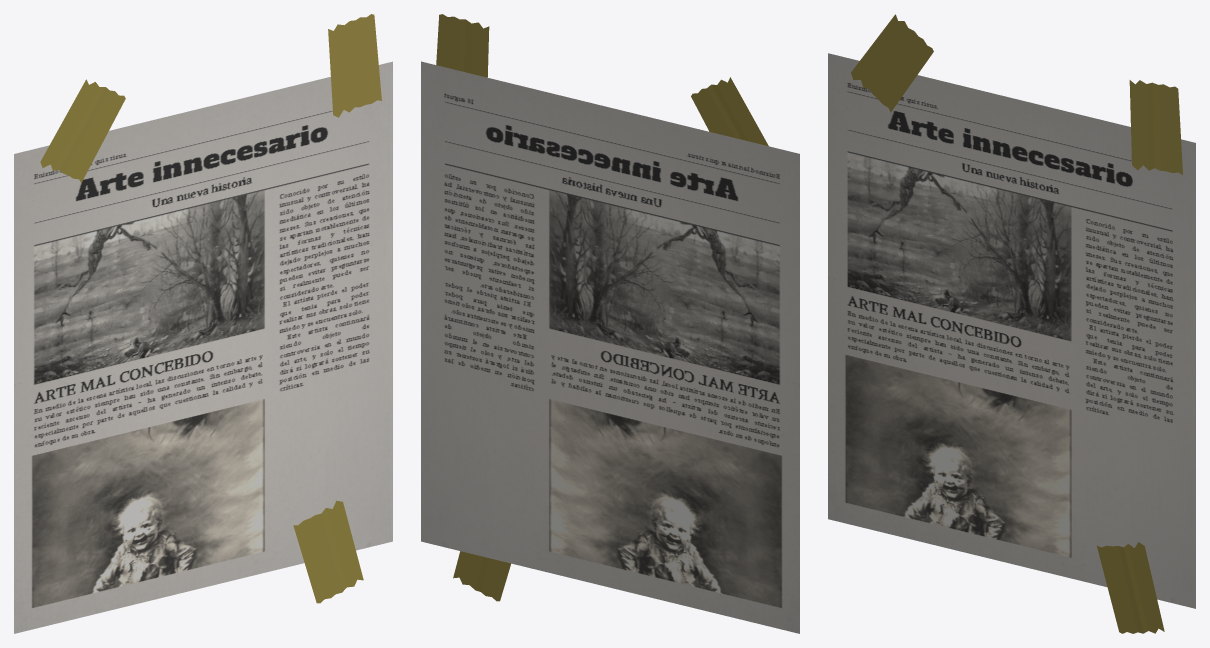
The model's file is Diario9.fbx.
3 renders of one model, left to right at view 1: azimuth 30°, elevation 25°; view 2: azimuth 150°, elevation 25°; view 3: azimuth 330°, elevation 25°, orthographic. The views are drawn at different scales.
Parts seen in each view (by area): view 1: Plane.005, Plane.002, Plane.001, Plane.003; view 2: Plane.005, Plane.001, Plane.003, Plane.002; view 3: Plane.005, Plane.003, Plane.002, Plane.001.
Part boxes in pixels (x1,y1,x2,y2): Plane.005: [14, 61, 392, 633]; Plane.002: [293, 500, 363, 603]; Plane.001: [40, 79, 125, 182]; Plane.003: [328, 14, 381, 117]; Plane.005: [421, 61, 799, 633]; Plane.001: [691, 77, 768, 146]; Plane.003: [436, 14, 489, 77]; Plane.002: [453, 551, 510, 601]; Plane.005: [828, 53, 1195, 608]; Plane.003: [1129, 80, 1182, 174]; Plane.002: [1096, 542, 1164, 633]; Plane.001: [851, 14, 933, 112].
Size of the model in its own units: 219 by 321 by 3.24.
Materials: 4 (1 with a texture image).
